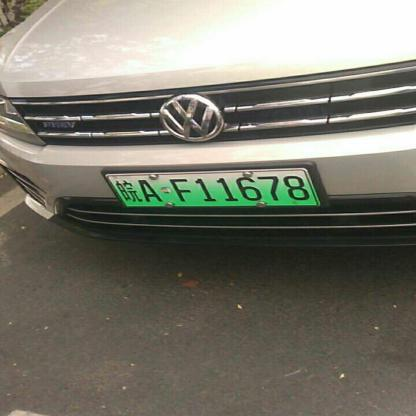lp: (104, 168, 319, 206)
